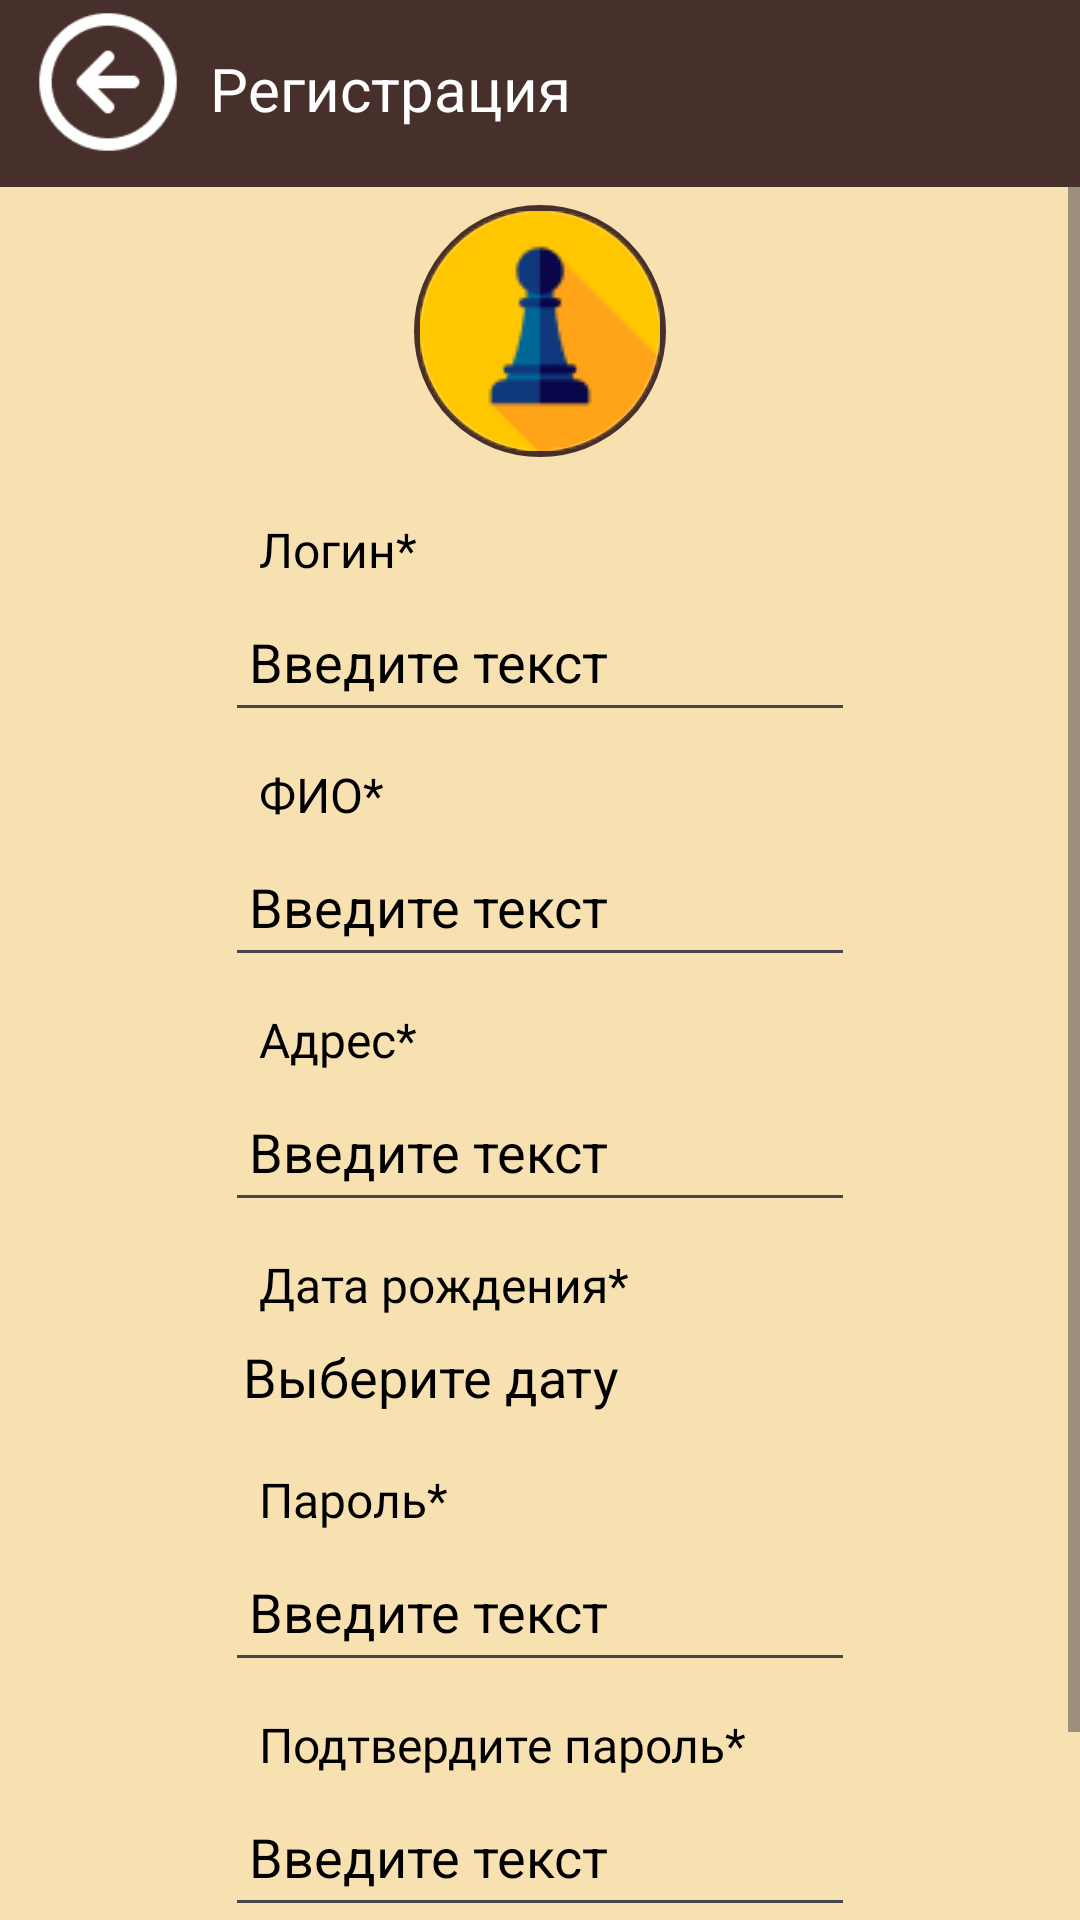

Screen size 1080px×1920px. Icon name, then its center in pixels as point (x, y):
circle arrow: point (108, 82)
Аватар профиля: point (540, 331)
